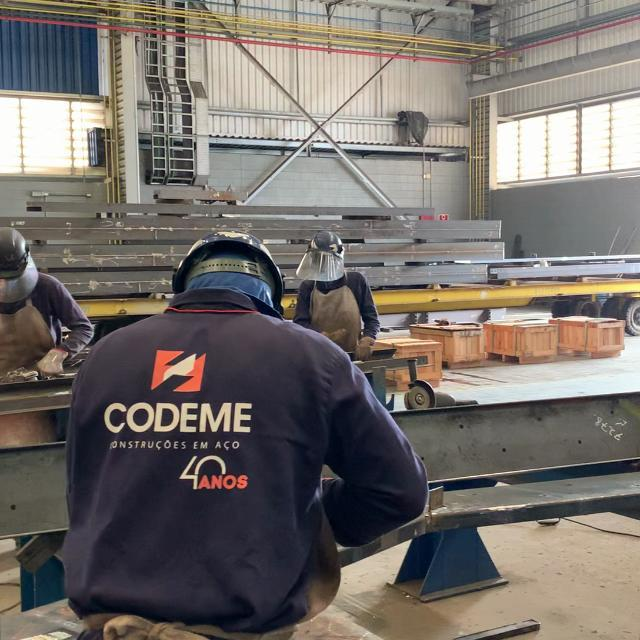eye-glass: (295, 251, 345, 282)
face-shield: (37, 348, 72, 376)
glove: (173, 230, 287, 307), (306, 232, 346, 255)
mask: (64, 231, 428, 635), (1, 225, 94, 375), (292, 231, 386, 360)
